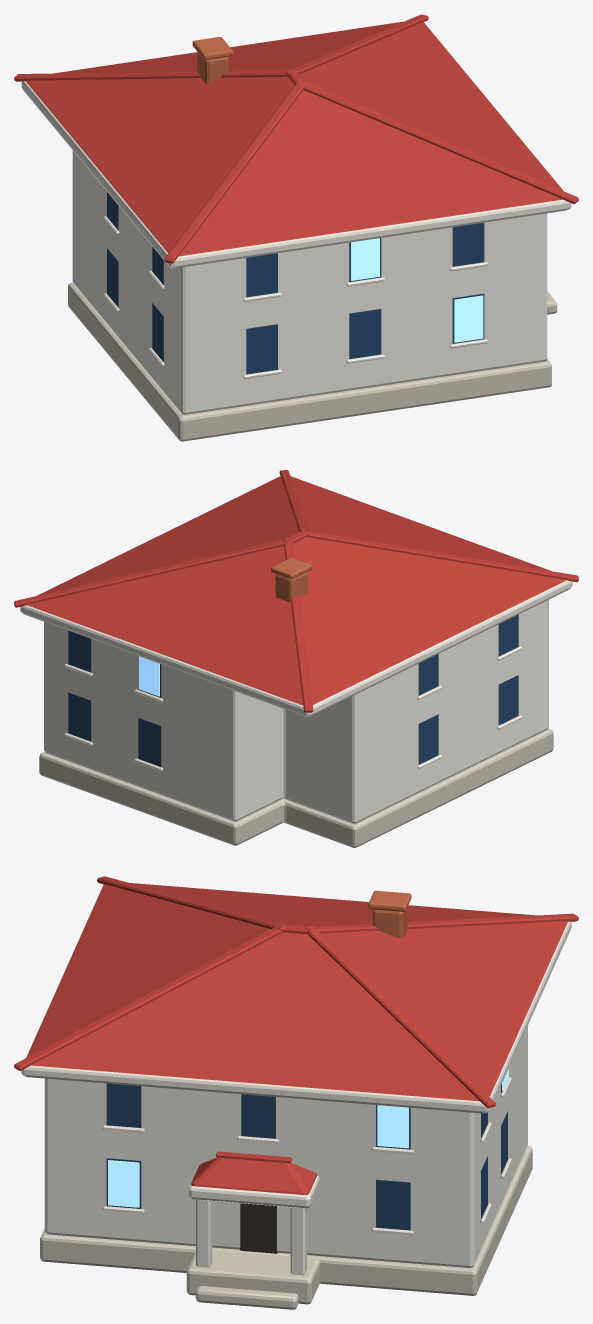
The model's file is mid.glb.
3 renders of one model, top to bottom at view 1: azimuth 30°, elevation 25°; view 2: azimuth 150°, elevation 25°; view 3: azimuth 270°, elevation 25°, orthographic. The views are drawn at different scales.
Parts seen in each view (by area): view 1: grp_Toy_red, walls, grp_Toy_stone, grp_Toy_trim, grp_Toy_glass, grp_Toy_glass_Glow, grp_Toy_brick; view 2: grp_Toy_red, walls, grp_Toy_stone, grp_Toy_trim, grp_Toy_glass, grp_Toy_brick, grp_Toy_glass_Glow; view 3: grp_Toy_red, walls, grp_Toy_stone, grp_Toy_trim, grp_Toy_glass, grp_Toy_glass_Glow, door_recess, grp_Toy_brick.
Boxes of the visible parts, x1,y1,x2,y2 form: grp_Toy_red: [14, 14, 578, 263]; walls: [72, 150, 547, 414]; grp_Toy_stone: [68, 283, 557, 441]; grp_Toy_trim: [21, 81, 571, 378]; grp_Toy_glass: [107, 192, 484, 374]; grp_Toy_glass_Glow: [351, 238, 483, 342]; grp_Toy_brick: [192, 37, 233, 83]; grp_Toy_red: [14, 470, 578, 712]; walls: [44, 599, 548, 823]; grp_Toy_stone: [39, 728, 553, 847]; grp_Toy_trim: [20, 580, 572, 771]; grp_Toy_glass: [68, 614, 518, 766]; grp_Toy_brick: [271, 557, 312, 602]; grp_Toy_glass_Glow: [138, 656, 159, 696]; grp_Toy_red: [14, 876, 578, 1195]; walls: [44, 1026, 527, 1267]; grp_Toy_stone: [40, 1146, 532, 1309]; grp_Toy_trim: [21, 884, 571, 1275]; grp_Toy_glass: [106, 1083, 507, 1230]; grp_Toy_glass_Glow: [108, 1068, 508, 1207]; door_recess: [239, 1203, 277, 1253]; grp_Toy_brick: [368, 890, 411, 938].
Bounding box in the file's own units: 17.2 × 9.55 × 17.73.
